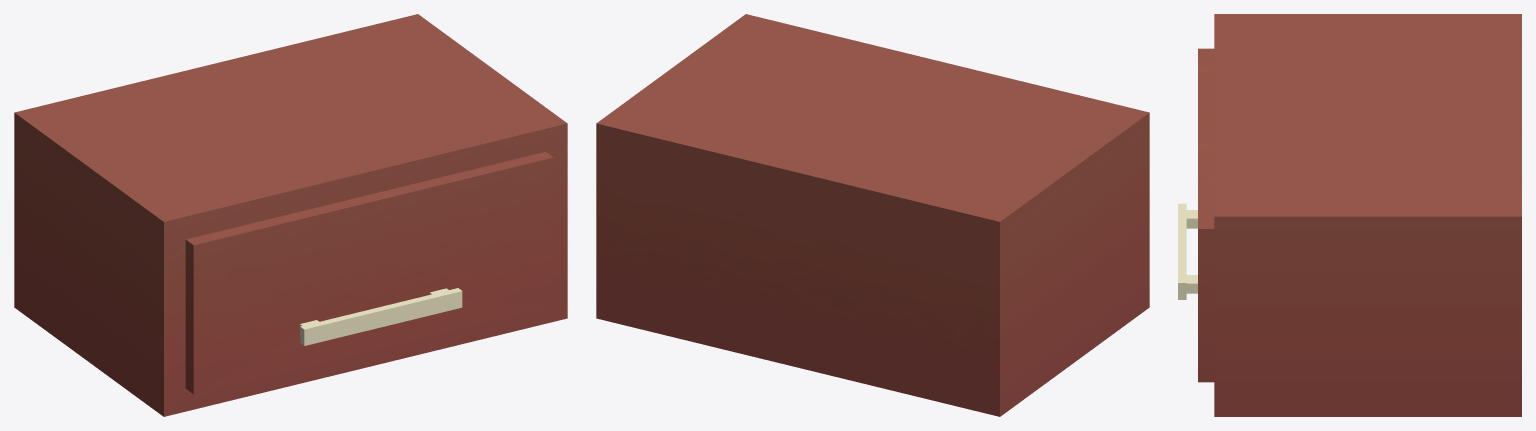
The model's file is SM_Cabinet_Upper_3_04.fbx.
3 renders of one model, left to right at view 1: azimuth 30°, elevation 25°; view 2: azimuth 150°, elevation 25°; view 3: azimuth 270°, elevation 25°, orthographic. The views are drawn at different scales.
Visible parts, largest first — view 1: SM_Cabinet_Upper_3_04; view 2: SM_Cabinet_Upper_3_04; view 3: SM_Cabinet_Upper_3_04.
Part boxes in pixels (x1,y1,x2,y2): SM_Cabinet_Upper_3_04: [14, 14, 567, 416]; SM_Cabinet_Upper_3_04: [596, 14, 1149, 416]; SM_Cabinet_Upper_3_04: [1178, 14, 1521, 416].
Bounding box in the file's own units: 114 × 52.73 × 81.97.
